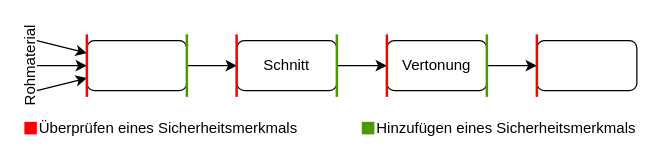
The diagram is 659 pixels wide and 158 high, and some of its shapes have lost their labels. The centre of each missing label's shape, as x and y in pixels:
"Ausstrahlung" belongs at point 586,65.
"Ingest" belongs at point 136,65.
